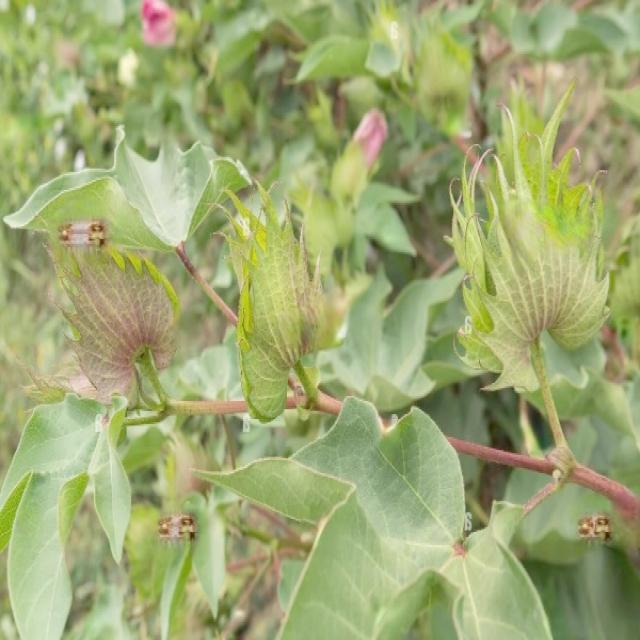Cotton Blossom: (331, 107, 388, 204), (138, 0, 210, 60)
Cotton Bud: (450, 112, 618, 382), (226, 183, 350, 434), (51, 224, 177, 424)
